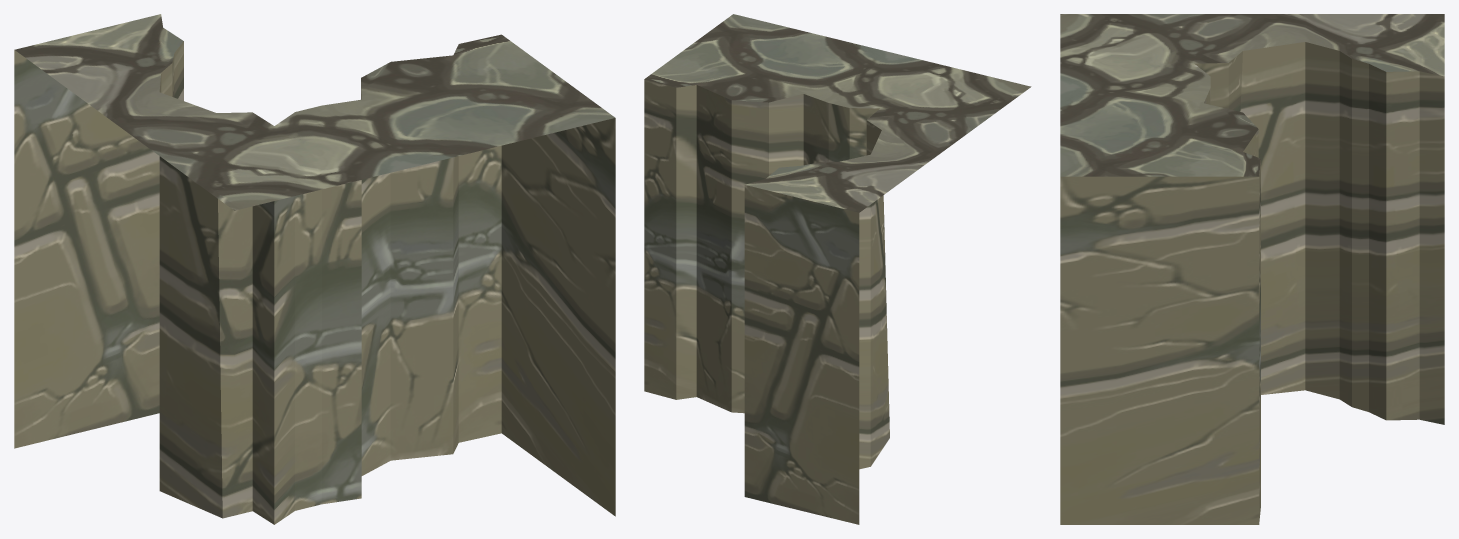
Rendered from broken_inside_corner.fbx.
3 views of the same model, side by side, from view 1: azimuth 30°, elevation 25°; view 2: azimuth 150°, elevation 25°; view 3: azimuth 270°, elevation 25° (orthographic). The views are drawn at different scales.
Parts seen in each view (by area): view 1: brokenINSIDEcorner; view 2: brokenINSIDEcorner; view 3: brokenINSIDEcorner.
Part boxes in pixels (x1,y1,x2,y2): brokenINSIDEcorner: (14,14,615,524); brokenINSIDEcorner: (644,14,1031,524); brokenINSIDEcorner: (1060,14,1444,524).
Bounding box in the file's own units: 1 × 1 × 1.
